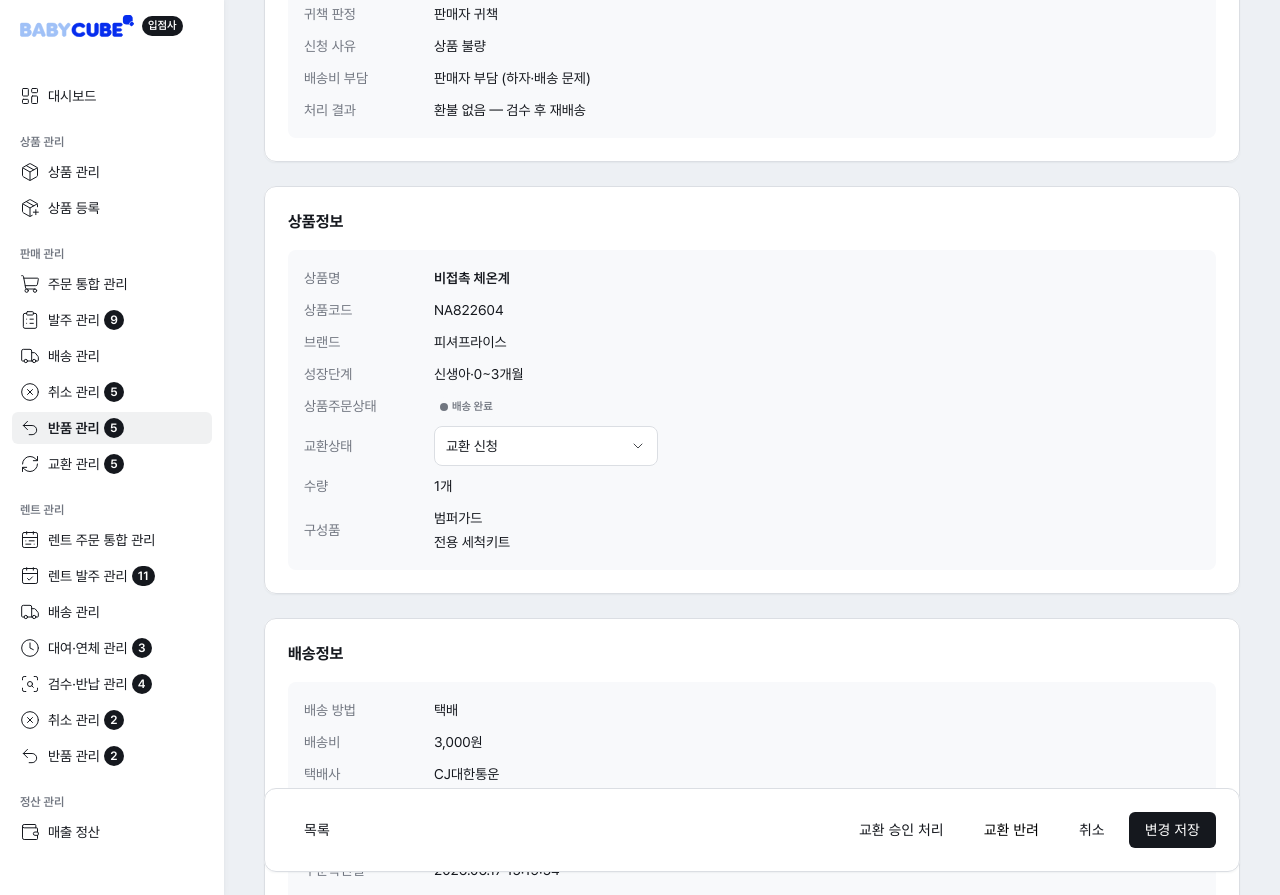
Scenario: 교환 상세 › 교환상태 셀렉트에서 [재반송] 은 송장 창(되돌릴 수 없음 고지)
(page scrolled)
Click the dropdown named "교환상태" at coordinates (546, 446), box [434,426,658,466]
(page scrolled)
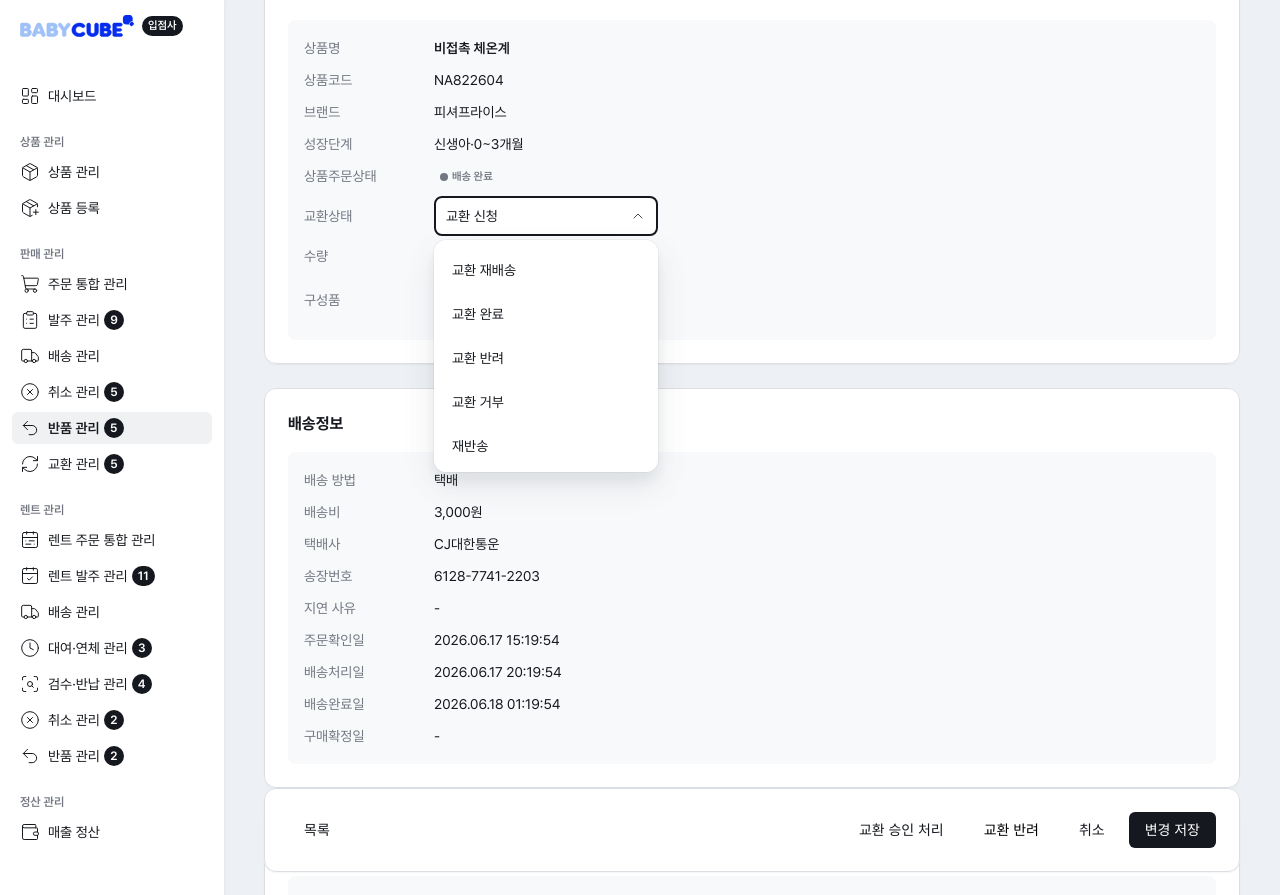
Click the option "재반송" at coordinates (470, 446), box [452,438,488,454]
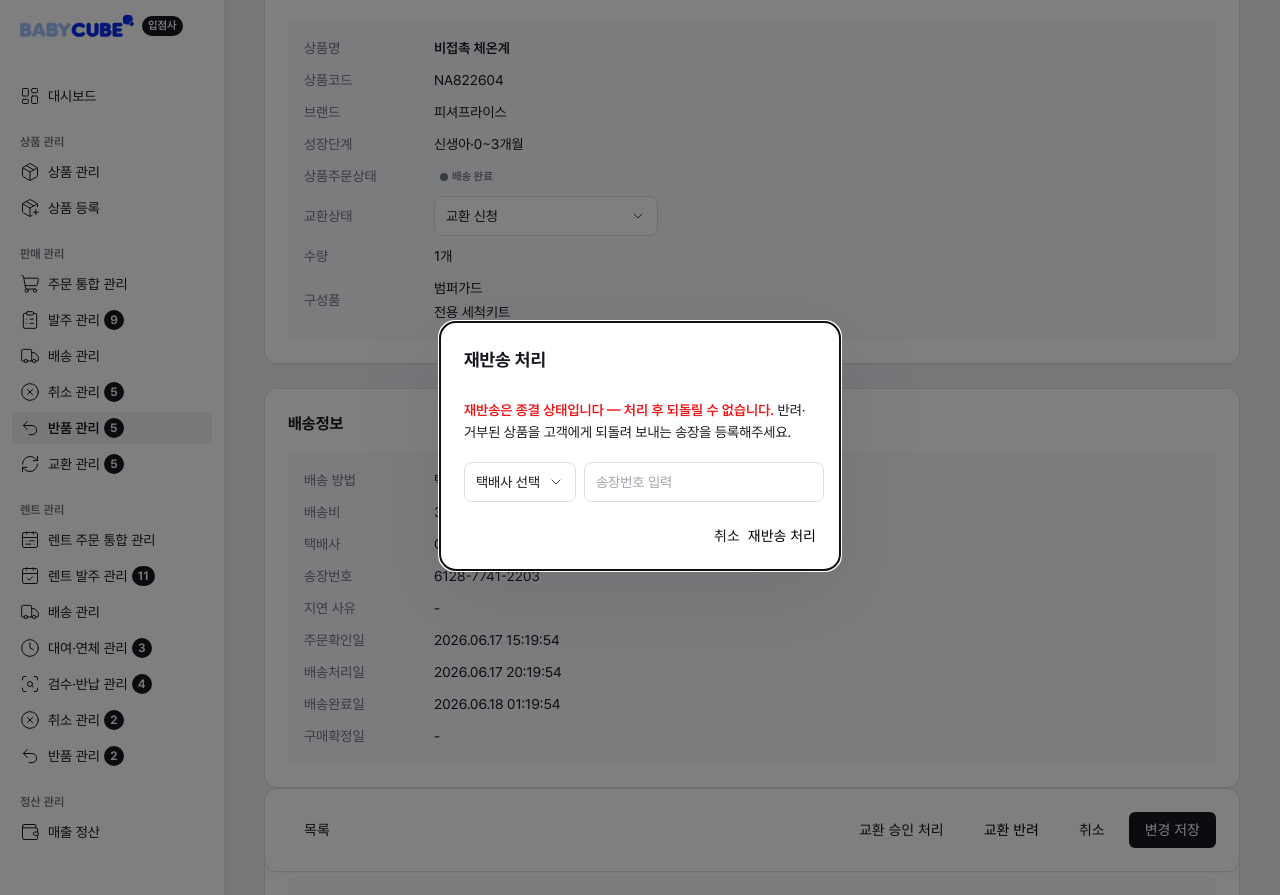
Check: the text "재반송은 종결 상태입니다 — 처리 후 되돌릴 수 없습니다." is shown, box [464,402,774,418]
